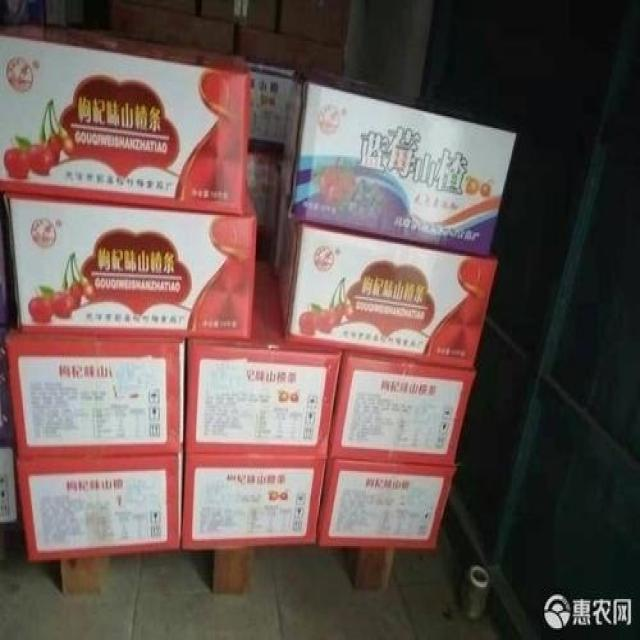box: (0, 20, 249, 217), (282, 67, 515, 254), (275, 178, 497, 370), (2, 181, 257, 341), (185, 257, 343, 458), (3, 318, 184, 453), (14, 453, 182, 561), (327, 350, 476, 464), (182, 450, 326, 545), (316, 457, 456, 548), (107, 2, 235, 49), (241, 19, 346, 76), (246, 59, 298, 153), (243, 152, 287, 259), (280, 2, 352, 46), (0, 447, 17, 522), (249, 0, 283, 30), (199, 1, 233, 17)
